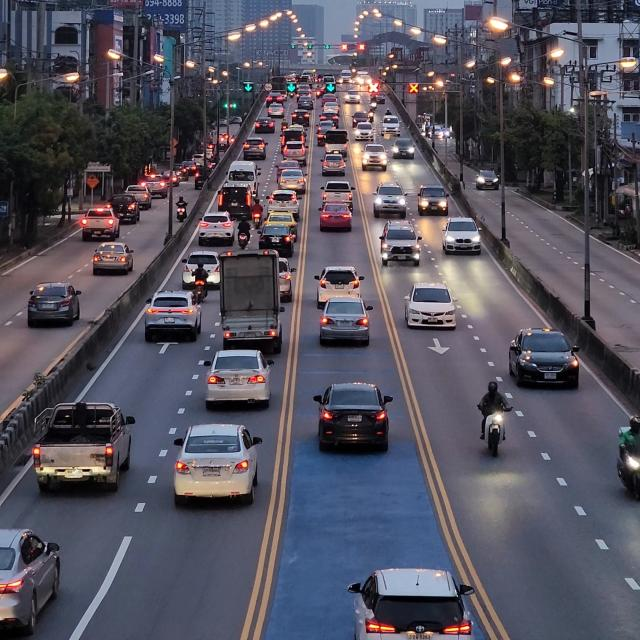Car: (345, 563, 485, 640), (30, 399, 140, 496), (174, 422, 266, 507), (216, 252, 286, 354), (313, 382, 398, 452), (504, 327, 582, 392), (200, 351, 274, 414), (146, 292, 204, 343), (406, 280, 461, 332), (25, 283, 84, 328), (318, 300, 374, 343), (381, 218, 424, 268), (441, 214, 485, 257), (91, 238, 136, 276), (79, 207, 121, 240), (199, 210, 237, 246), (257, 223, 296, 256), (373, 184, 408, 218), (419, 182, 452, 218), (319, 206, 354, 235)
